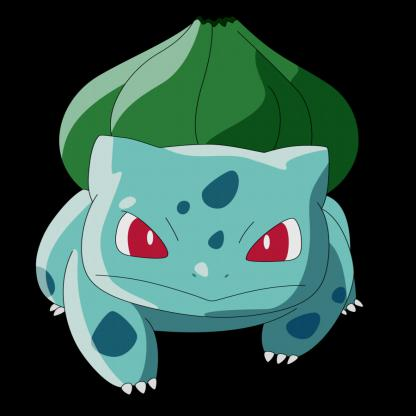Bulbasaur: (42, 16, 374, 396)
